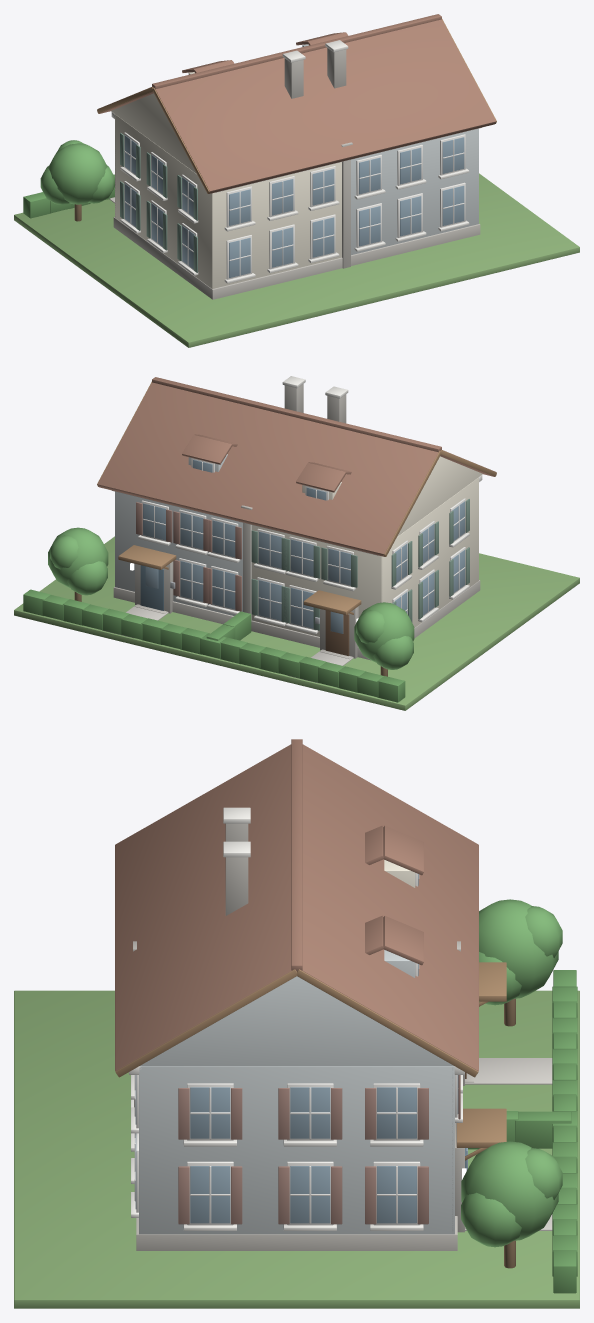
File: th22_doppelhaus.glb
3 renders of one model, top to bottom at view 1: azimuth 30°, elevation 25°; view 2: azimuth 150°, elevation 25°; view 3: azimuth 270°, elevation 25°, orthographic. The views are drawn at different scales.
Parts seen in each view (by area): view 1: Cube.270, Cube, Cube.024, Cube.027, Cube.025, Sphere, Giebel, Cube.272, Cube.028, Cube.030, Cube.134, Cube.241 (+15 smaller); view 2: Cube.271, Cube, Cube.024, Cube.027, Giebel, Cube.272, Cube.025, Sphere.004, Sphere, Sphere.005, Sphere.001, Cube.302 (+42 smaller); view 3: Cube, Cube.270, Cube.271, Cube.027, Giebel.001, Cube.028, Sphere.004, Sphere, Cube.272, Sphere.006, Cube.213, Cube.199 (+16 smaller).
Boxes of the visible parts, left/top/right/bottom form: Cube.270: left=155, top=19, right=496, bottom=193; Cube: left=14, top=173, right=579, bottom=347; Cube.024: left=115, top=114, right=341, bottom=288; Cube.027: left=351, top=128, right=478, bottom=255; Cube.025: left=113, top=217, right=342, bottom=299; Sphere: left=48, top=143, right=107, bottom=204; Giebel: left=111, top=93, right=196, bottom=173; Cube.272: left=152, top=14, right=441, bottom=89; Cube.028: left=351, top=224, right=480, bottom=265; Cube.030: left=342, top=160, right=350, bottom=268; Cube.134: left=312, top=217, right=334, bottom=257; Cube.241: left=359, top=206, right=380, bottom=246; Cube.271: left=97, top=382, right=438, bottom=556; Cube: left=14, top=536, right=579, bottom=710; Cube.024: left=252, top=477, right=478, bottom=636; Cube.027: left=115, top=491, right=242, bottom=615; Giebel: left=397, top=456, right=482, bottom=536; Cube.272: left=152, top=377, right=441, bottom=452; Cube.025: left=251, top=580, right=480, bottom=660; Sphere.004: left=48, top=527, right=108, bottom=587; Sphere: left=354, top=602, right=414, bottom=662; Sphere.005: left=67, top=561, right=107, bottom=595; Sphere.001: left=373, top=636, right=413, bottom=669; Cube.302: left=182, top=435, right=232, bottom=464; Cube: left=14, top=990, right=579, bottom=1308; Cube.270: left=115, top=744, right=291, bottom=1071; Cube.271: left=302, top=744, right=478, bottom=1071; Cube.027: left=139, top=1066, right=454, bottom=1234; Giebel.001: left=139, top=976, right=454, bottom=1066; Cube.028: left=136, top=1216, right=457, bottom=1250; Sphere.004: left=461, top=1141, right=558, bottom=1240; Sphere: left=479, top=899, right=558, bottom=998; Cube.272: left=291, top=739, right=302, bottom=971; Sphere.006: left=461, top=1192, right=521, bottom=1247; Cube.213: left=290, top=1166, right=330, bottom=1223; Cube.199: left=190, top=1166, right=230, bottom=1223.
Size of the model in its own units: 22 by 10.74 by 17.
